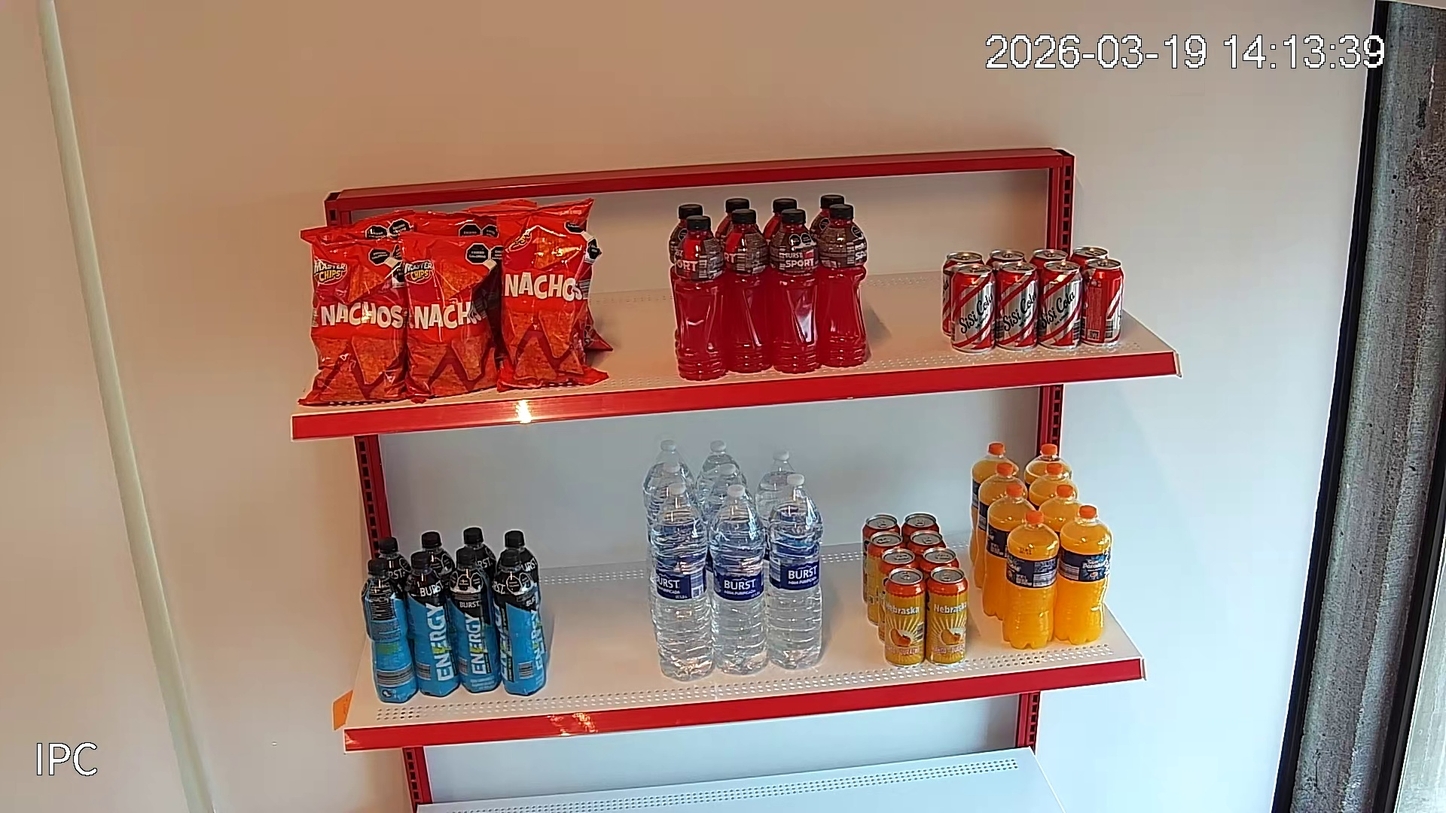agua_burst: (647, 461, 702, 624), (756, 450, 796, 603), (643, 440, 695, 512), (694, 440, 748, 508), (703, 464, 755, 524)
burst_energetica_roja: (769, 210, 821, 373), (720, 209, 769, 373), (669, 203, 702, 352), (809, 194, 845, 245)
burst_energy: (448, 548, 501, 693), (504, 531, 549, 664), (420, 532, 455, 597)
nachos_naturasol: (495, 211, 608, 394), (412, 209, 498, 238)
nebraska_mango: (867, 531, 906, 626), (862, 514, 900, 604), (906, 530, 947, 567), (901, 513, 939, 544)
sisi_cola: (951, 264, 996, 353), (1080, 258, 1124, 346), (986, 249, 1028, 276), (1029, 249, 1068, 277)
sun_paradise_naranja: (982, 483, 1036, 620), (974, 463, 1028, 588), (1038, 484, 1082, 539), (1028, 463, 1077, 511)
